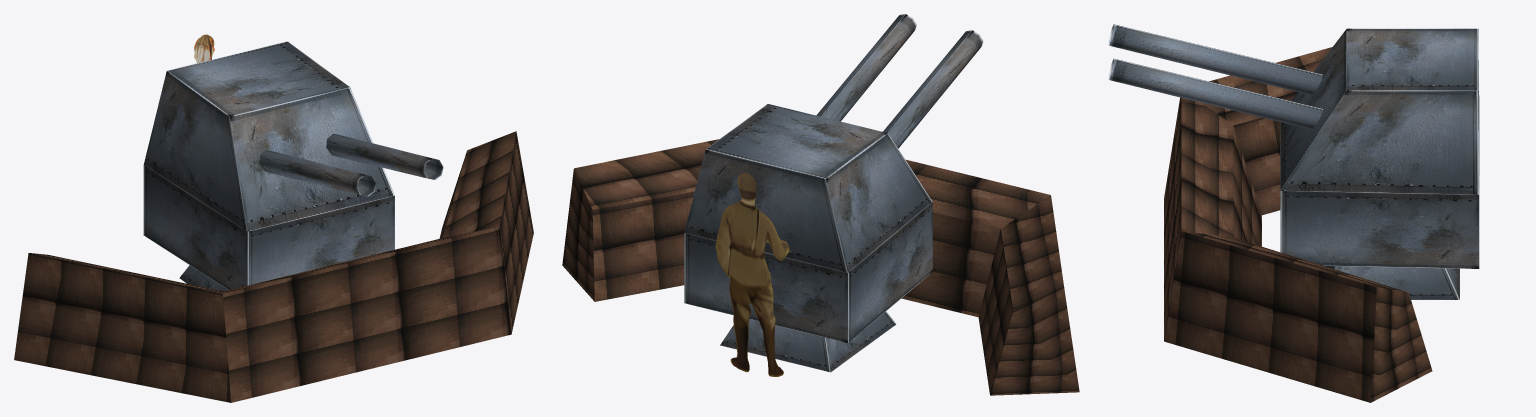
Rendered from aagun.gltf.
The picture shows the model from 3 angles, left to right: view 1: azimuth 30°, elevation 25°; view 2: azimuth 150°, elevation 25°; view 3: azimuth 270°, elevation 25°; orthographic projection. The views are drawn at different scales.
Visible parts, largest first — view 1: aagun_atomic1, aagun_atomic0; view 2: aagun_atomic1, aagun_atomic0; view 3: aagun_atomic0, aagun_atomic1.
Part boxes in pixels (box(x1,y1,x2,y2)): aagun_atomic1: box(14, 34, 533, 402); aagun_atomic0: box(143, 41, 443, 289); aagun_atomic1: box(562, 139, 1079, 395); aagun_atomic0: box(684, 14, 983, 342); aagun_atomic0: box(1108, 24, 1479, 268); aagun_atomic1: box(1164, 47, 1459, 402).
Size of the model in its own units: 38.53 by 16.02 by 25.22.
4 materials, 4 textured.
